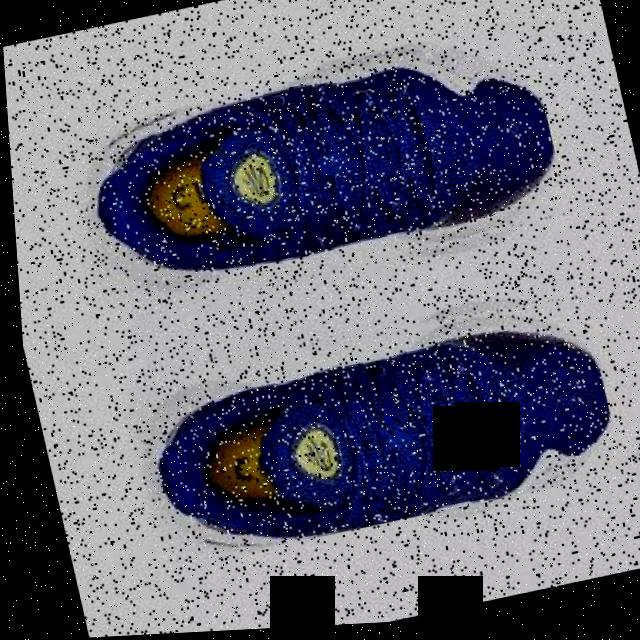shoe: (54, 23, 573, 332), (112, 279, 620, 573)
